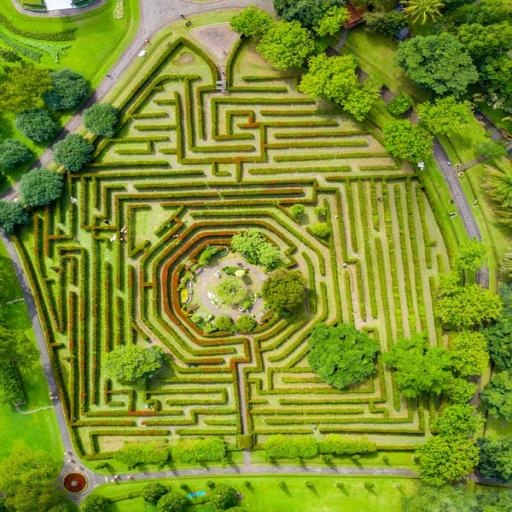tree-top: (304, 320, 382, 392), (386, 337, 469, 404), (398, 33, 479, 95), (311, 50, 376, 119), (0, 444, 58, 512), (258, 18, 319, 72), (416, 437, 475, 492), (275, 0, 356, 37), (103, 344, 171, 387), (439, 276, 497, 326), (424, 97, 482, 146), (0, 62, 51, 111), (471, 426, 512, 484), (384, 118, 434, 160), (261, 270, 308, 314), (43, 68, 94, 108), (477, 45, 512, 102), (484, 160, 512, 228), (234, 228, 282, 266), (49, 133, 95, 172), (477, 374, 512, 425), (430, 402, 473, 440), (19, 164, 60, 202), (455, 24, 512, 50), (16, 104, 56, 140), (490, 308, 512, 370), (451, 238, 486, 274), (86, 101, 122, 134), (455, 0, 512, 20), (404, 0, 447, 26), (363, 10, 405, 36), (227, 6, 260, 36), (0, 139, 29, 168), (385, 91, 419, 113)
